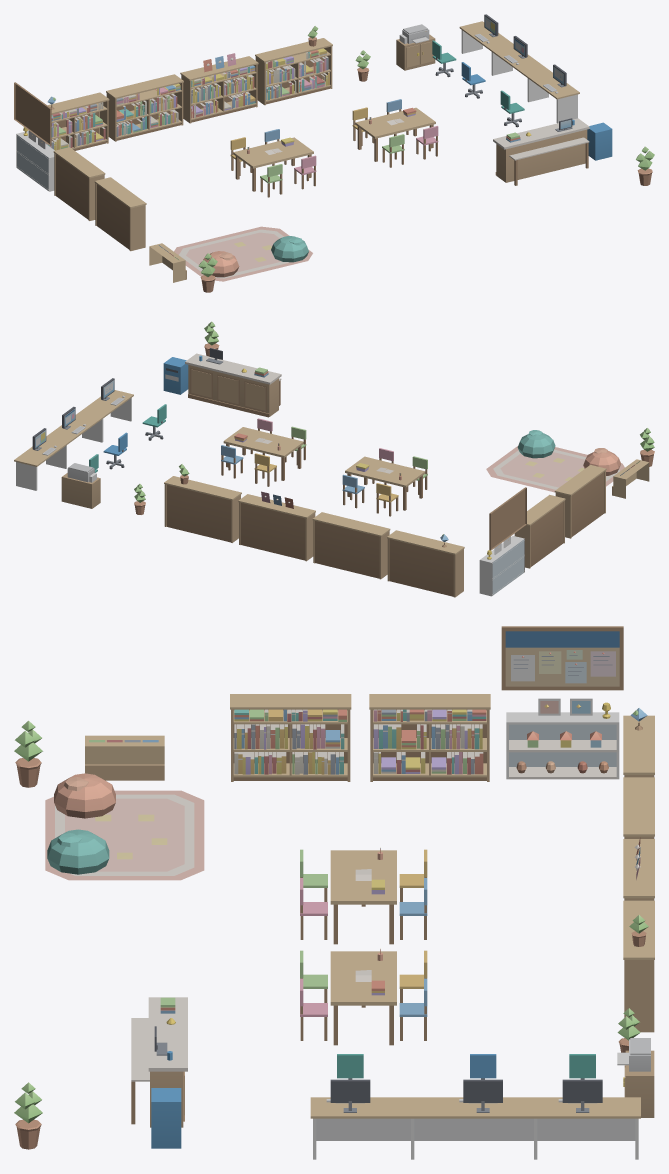
The model's file is pss_interior_props.glb.
3 renders of one model, top to bottom at view 1: azimuth 30°, elevation 25°; view 2: azimuth 150°, elevation 25°; view 3: azimuth 270°, elevation 25°, orthographic. The views are drawn at different scales.
Parts seen in each view (by area): view 1: kaunter, rak_rendah_3, rak_rendah_4, rak_rendah_2, meja_digital, lalu_permaidani, meja_baca_1, meja_baca_2, rak_rendah_1, rak_rendah_6, rak_rendah_5, almari_pameran (+11 smaller); view 2: kaunter, rak_rendah_3, rak_rendah_1, rak_rendah_4, rak_rendah_2, meja_digital, meja_baca_2, meja_baca_1, lalu_permaidani, rak_rendah_6, rak_rendah_5, almari_pameran (+8 smaller); view 3: meja_digital, rak_rendah_6, rak_rendah_5, lalu_permaidani, almari_pameran, papan_kenyataan, meja_baca_2, meja_baca_1, kaunter, rak_rendah_4, kotak_buku_cerita, beanbag_2 (+11 smaller).
Boxes of the visible parts, box(x1,y1,x2,y2) form: kaunter: box(493, 118, 589, 185); rak_rendah_3: box(180, 53, 258, 123); rak_rendah_4: box(255, 26, 332, 105); rak_rendah_2: box(106, 74, 183, 141); meja_digital: box(459, 21, 579, 123); lalu_permaidani: box(174, 226, 312, 281); meja_baca_1: box(230, 129, 316, 197); meja_baca_2: box(352, 99, 438, 167); rak_rendah_1: box(36, 92, 109, 150); rak_rendah_6: box(94, 177, 146, 251); rak_rendah_5: box(53, 147, 105, 220); almari_pameran: box(16, 127, 54, 191); kaunter: box(185, 348, 281, 417); rak_rendah_3: box(238, 491, 315, 561); rak_rendah_1: box(387, 530, 464, 597); rak_rendah_4: box(164, 464, 241, 542); rak_rendah_2: box(312, 512, 390, 579); meja_digital: box(14, 390, 133, 490); meja_baca_2: box(221, 418, 306, 486); meja_baca_1: box(342, 448, 427, 516); lalu_permaidani: box(486, 446, 624, 492); rak_rendah_6: box(554, 465, 606, 538); rak_rendah_5: box(514, 494, 565, 568); almari_pameran: box(479, 536, 524, 596); meja_digital: box(310, 1097, 640, 1159); rak_rendah_6: box(230, 694, 351, 781); rak_rendah_5: box(369, 694, 490, 781); lalu_permaidani: box(45, 790, 204, 880); almari_pameran: box(506, 698, 619, 779); papan_kenyataan: box(501, 626, 623, 690); meja_baca_2: box(300, 948, 427, 1045); meja_baca_1: box(300, 847, 427, 944); kaunter: box(131, 997, 187, 1127); rak_rendah_4: box(623, 900, 654, 1032); kotak_buku_cerita: box(85, 735, 164, 780); beanbag_2: box(47, 829, 109, 874).
Bounding box in the file's own units: 13.98 × 2.37 × 9.66.
